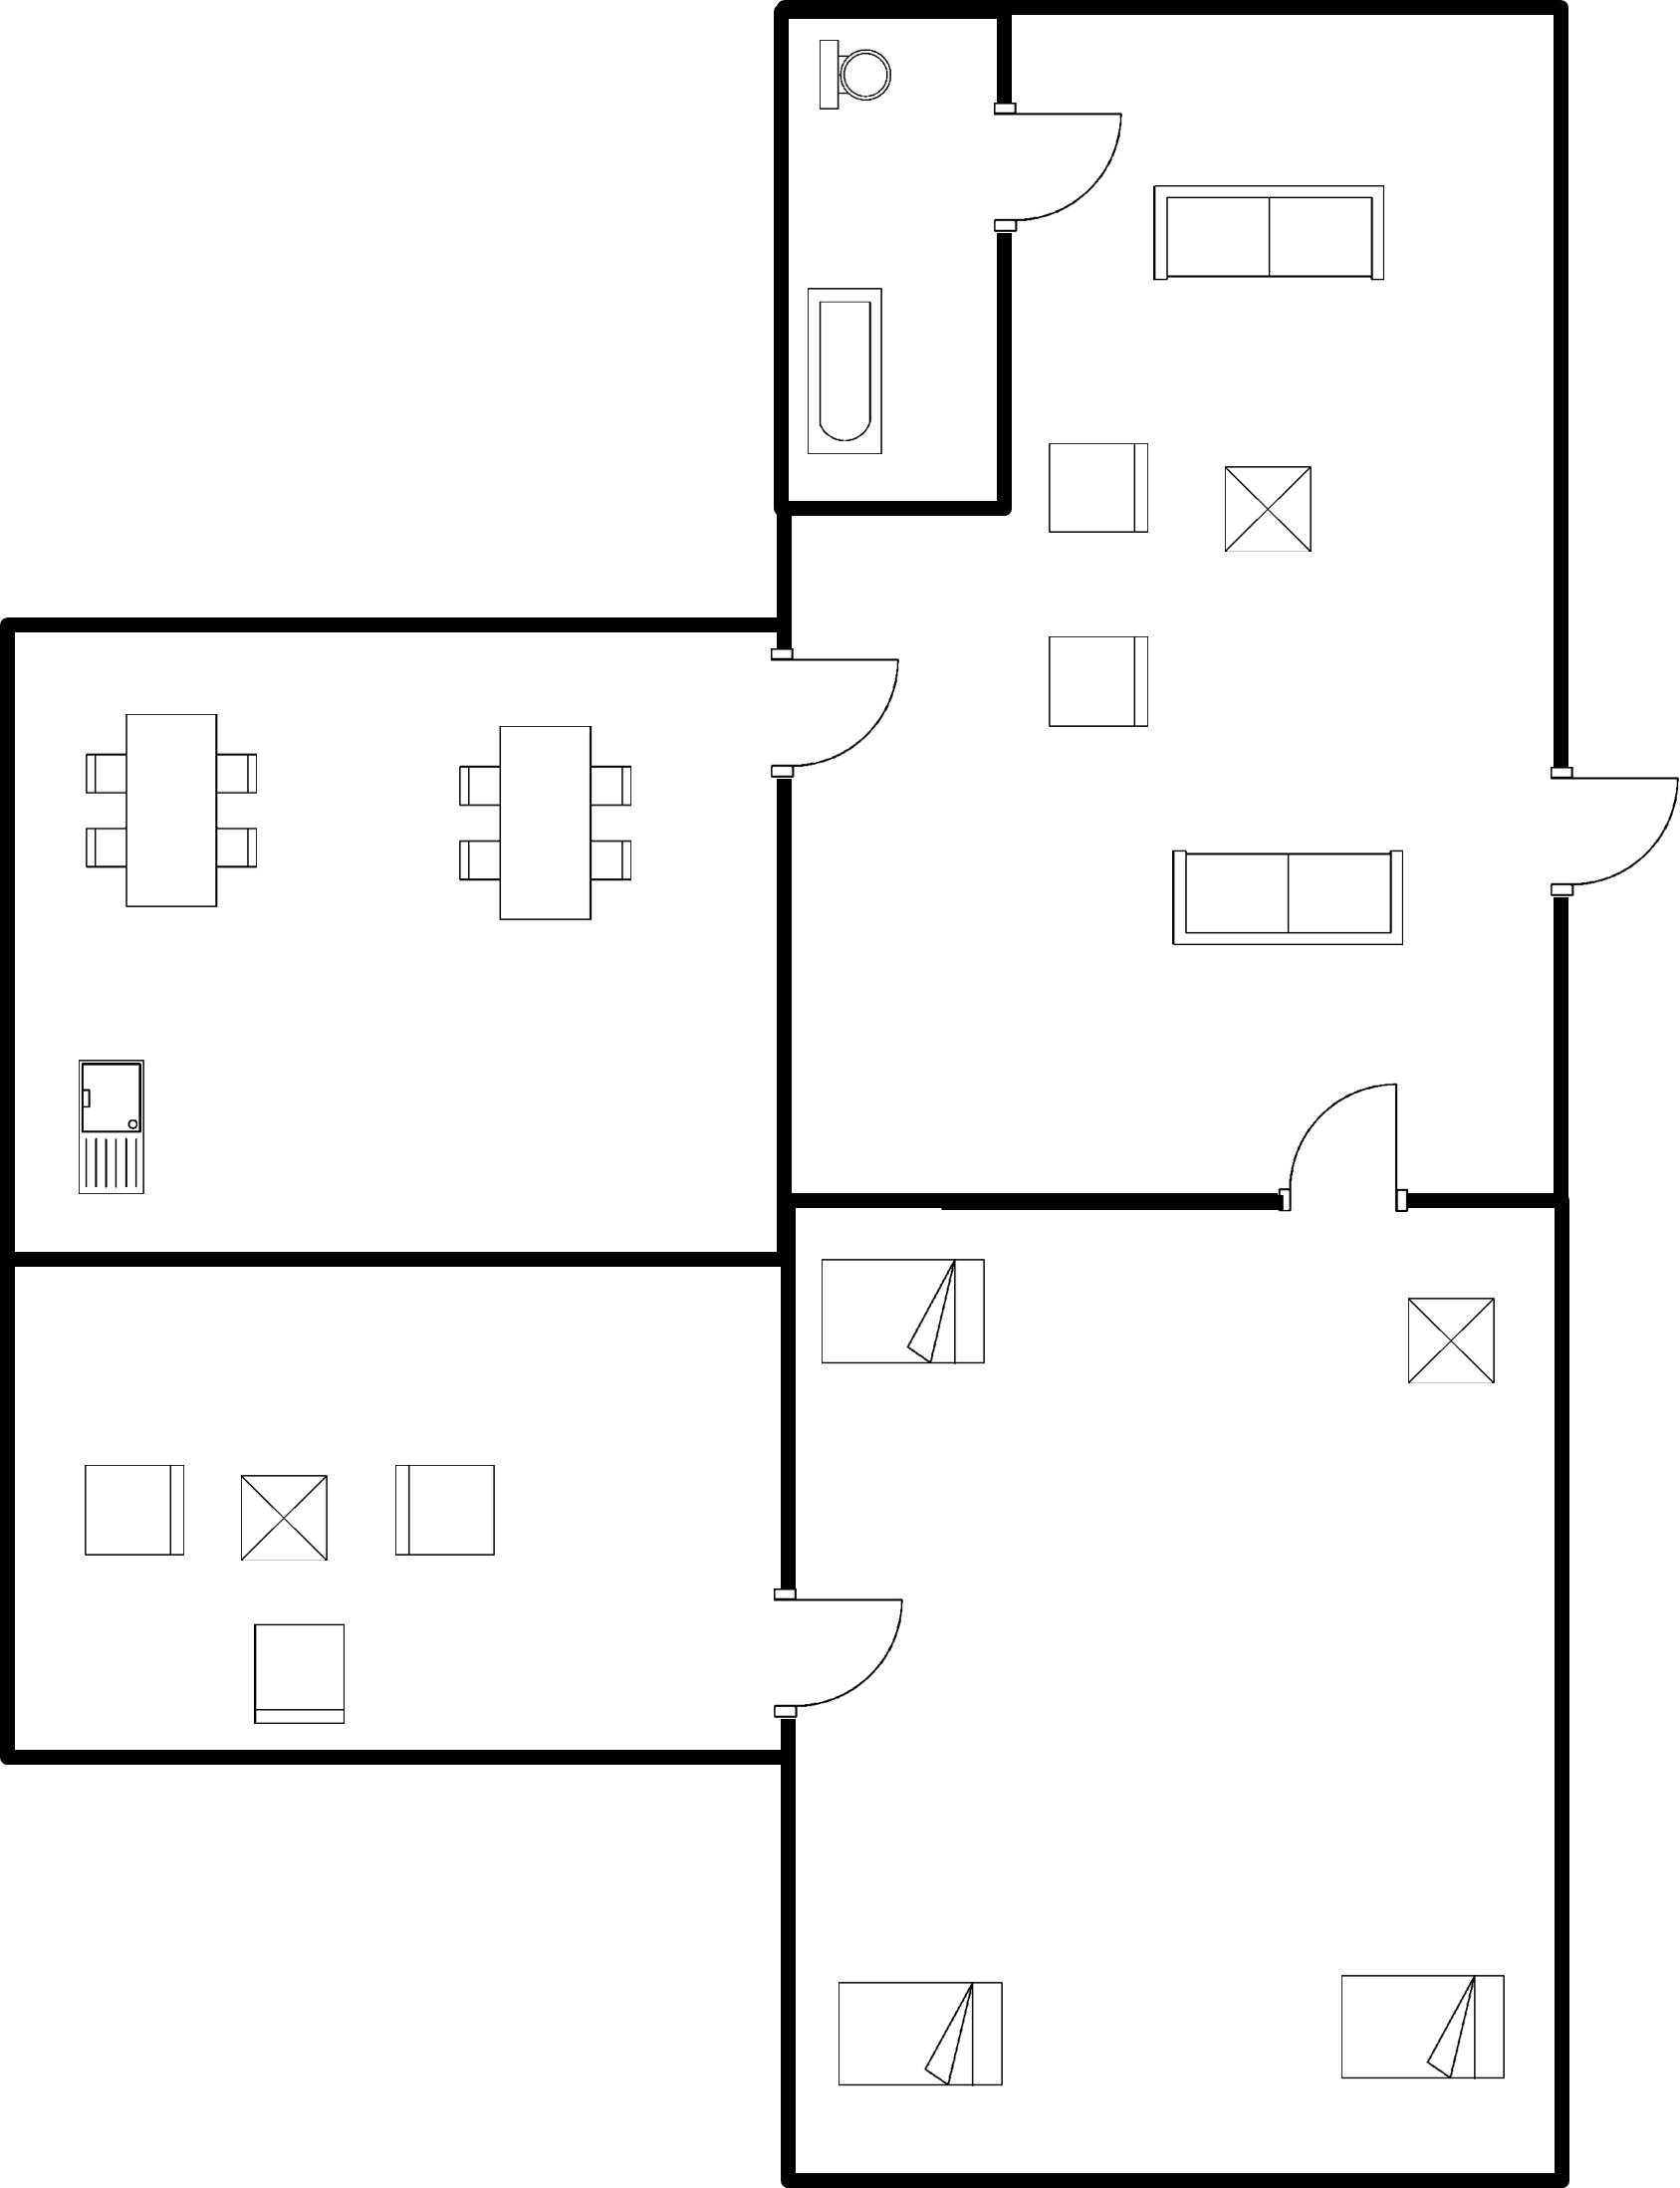bed: (817, 1968, 1023, 2104), (1329, 1957, 1525, 2095), (811, 1238, 1001, 1381)
coffee_table: (1206, 450, 1327, 578), (228, 1459, 343, 1572), (1394, 1291, 1508, 1400)
dining_table: (433, 714, 652, 933), (70, 699, 280, 926)
large_sink: (802, 28, 896, 127)
large_sofa: (1148, 834, 1429, 957), (1139, 168, 1397, 299), (64, 1450, 199, 1568), (381, 1455, 512, 1577), (239, 1610, 360, 1736)
sink: (68, 1048, 165, 1212)
small_sofa: (1033, 623, 1161, 747), (1025, 435, 1159, 550)
tub: (795, 275, 894, 465)
